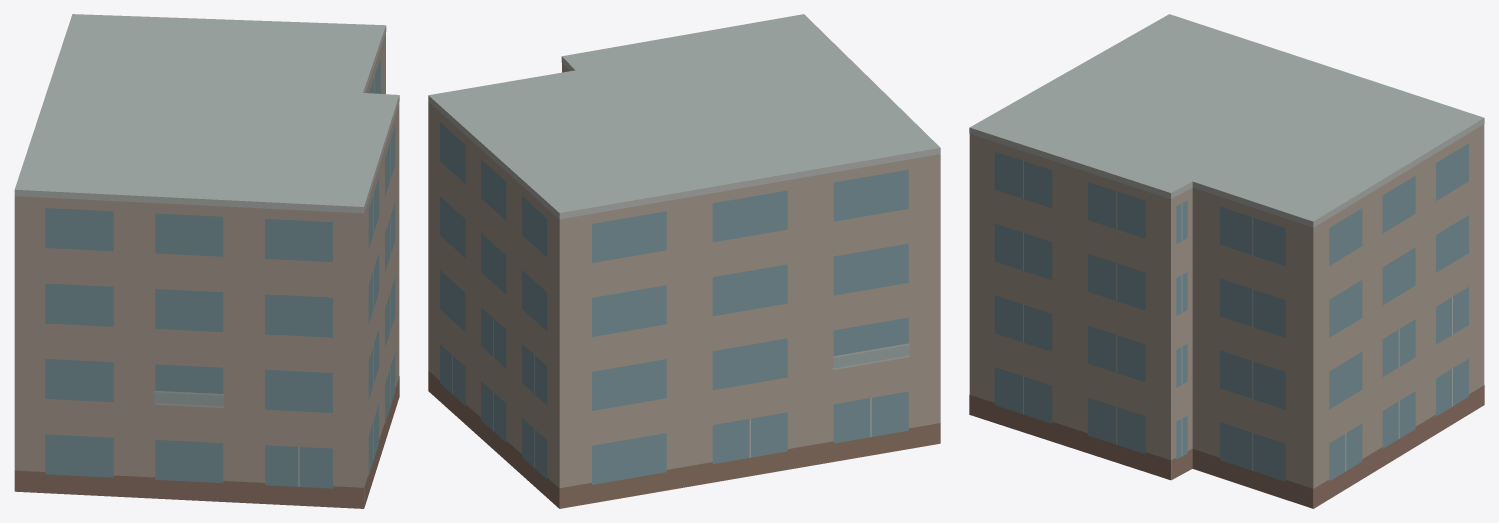
Rendered from survey-upis-32786608.glb.
The picture shows the model from 3 angles, left to right: view 1: azimuth 30°, elevation 25°; view 2: azimuth 150°, elevation 25°; view 3: azimuth 270°, elevation 25°; orthographic projection. The views are drawn at different scales.
Visible parts, largest first — view 1: survey-upis-32786608.tmp; view 2: survey-upis-32786608.tmp; view 3: survey-upis-32786608.tmp.
Part boxes in pixels (<box>): survey-upis-32786608.tmp: <box>14,14,399,508</box>; survey-upis-32786608.tmp: <box>428,14,940,508</box>; survey-upis-32786608.tmp: <box>969,14,1484,508</box>.
Bounding box in the file's own units: 17.84 × 11.5 × 18.7.
